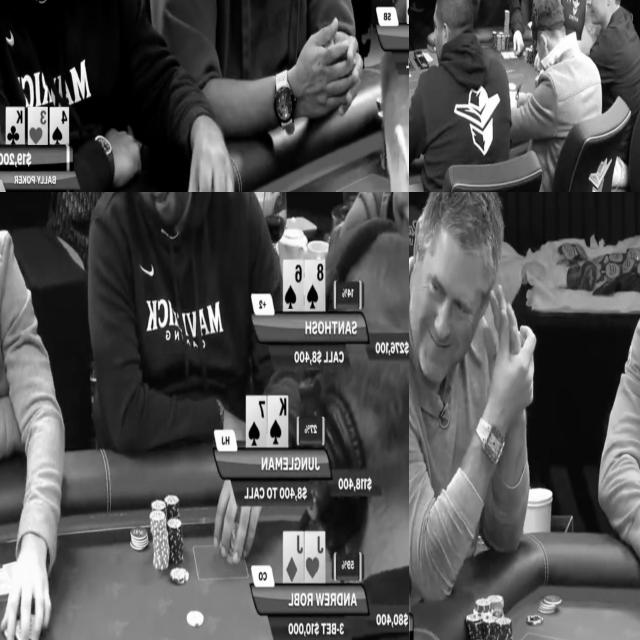3H: (28, 107, 47, 145)
4S: (49, 108, 69, 144)
6S: (285, 261, 303, 309)
7S: (247, 397, 265, 447)
8S: (306, 261, 324, 310)
JD: (284, 533, 303, 582)
JH: (305, 533, 325, 581)
KC: (6, 107, 25, 145)
KS: (269, 396, 287, 446)
